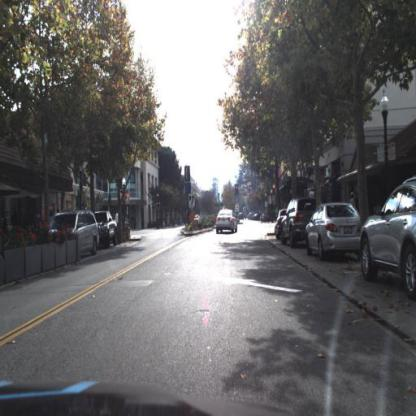car: (361, 175, 416, 302), (307, 203, 366, 265), (280, 197, 317, 253), (53, 212, 100, 256), (196, 207, 222, 240), (97, 212, 120, 248)
trafficLight-Red: (235, 183, 240, 199)
